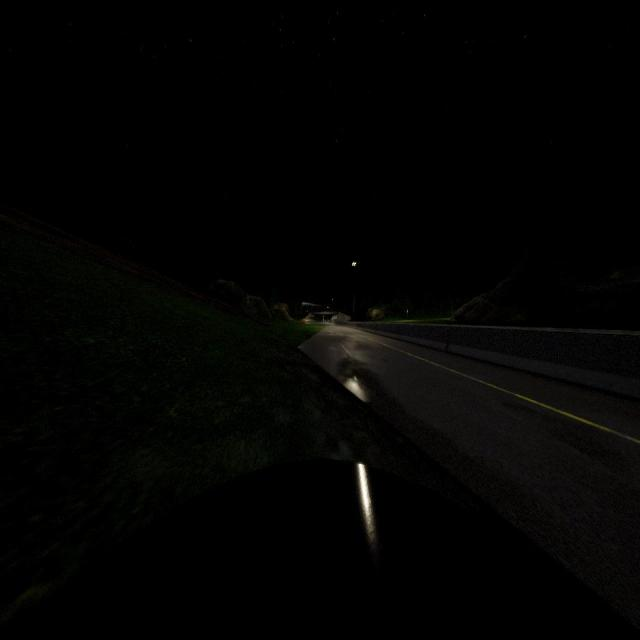Vehicle: (0, 455, 640, 639)
